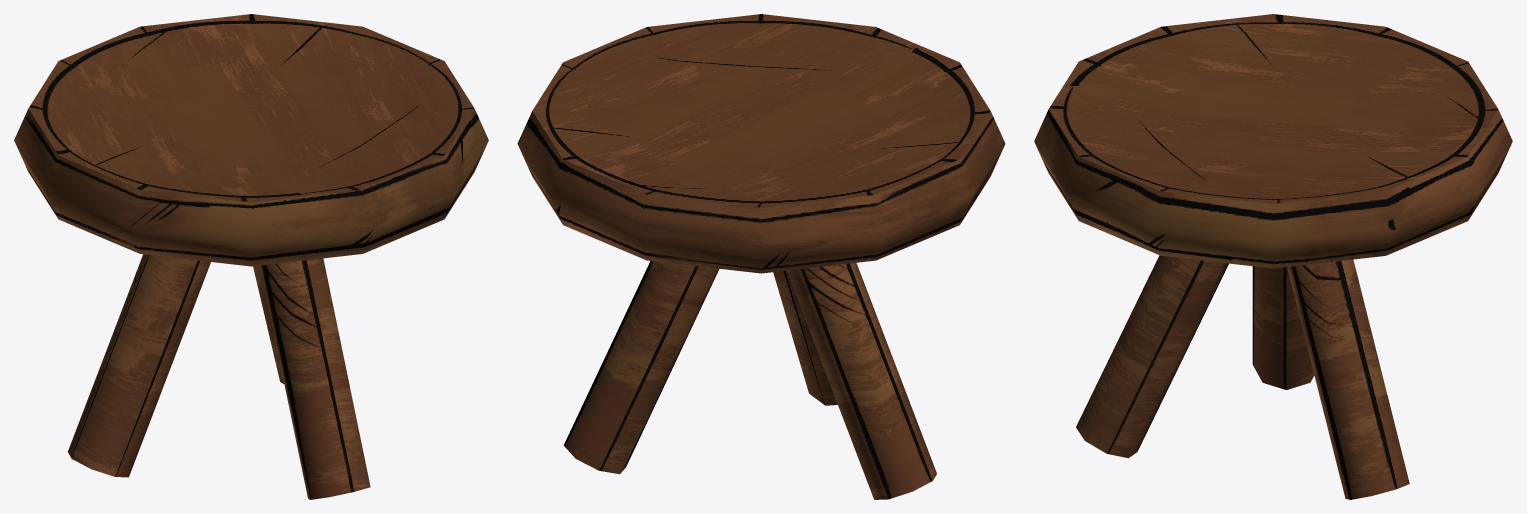
Rendered from Chair_D.glb.
3 renders of one model, left to right at view 1: azimuth 30°, elevation 25°; view 2: azimuth 150°, elevation 25°; view 3: azimuth 270°, elevation 25°, orthographic. The views are drawn at different scales.
Visible parts, largest first — view 1: Chair D; view 2: Chair D; view 3: Chair D.
Boxes of the visible parts, x1,y1,x2,y2 form: Chair D: (14, 14, 488, 499); Chair D: (517, 14, 1005, 499); Chair D: (1034, 14, 1512, 499).
Bounding box in the file's own units: 2.13 × 1.67 × 2.13.
Materials: 1 (1 with a texture image).
